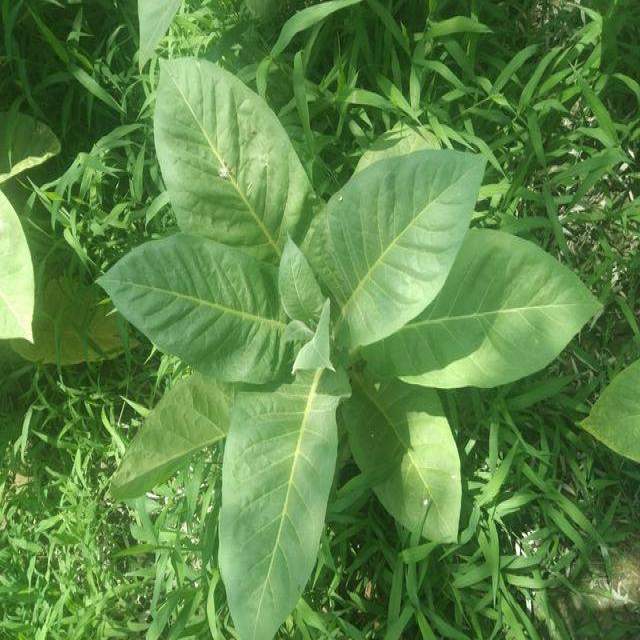crop: (108, 58, 592, 630), (0, 109, 129, 363), (581, 370, 640, 482)
